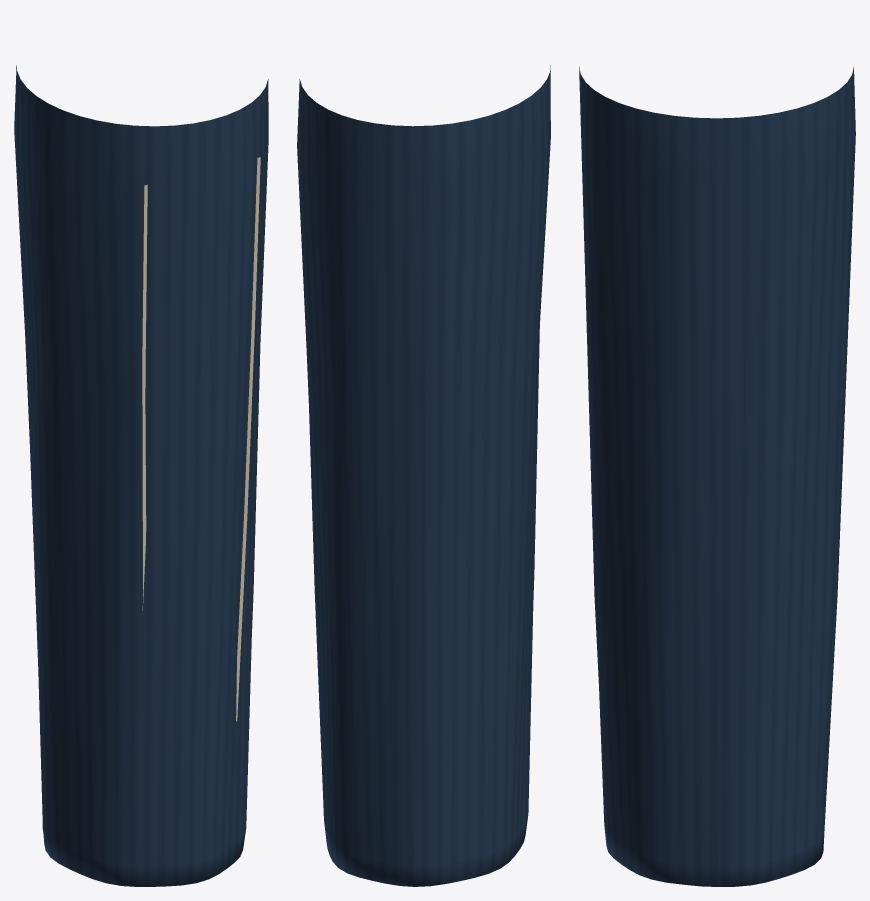
Rendered from straight_jeans.gltf.
3 renders of one model, left to right at view 1: azimuth 30°, elevation 25°; view 2: azimuth 150°, elevation 25°; view 3: azimuth 270°, elevation 25°, orthographic.
Parts seen in each view (by area): view 1: LegL, LegR; view 2: LegL; view 3: LegL.
Part boxes in pixels (box(x1,y1,x2,y2)): LegL: box(14, 65, 268, 886); LegR: box(236, 157, 260, 721); LegL: box(297, 65, 550, 886); LegL: box(579, 67, 855, 886).
Bounding box in the file's own units: 0.2162 × 0.749 × 0.2397.
2 materials, 2 textured.
